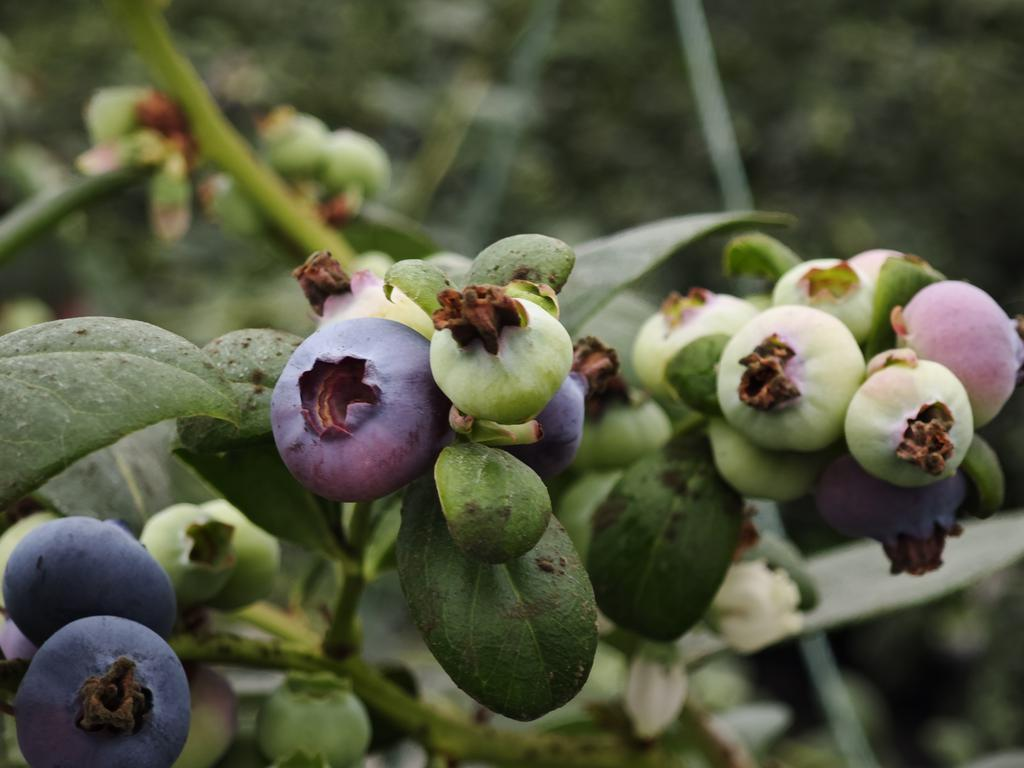RipeBlueBerry: (2, 513, 177, 649)
Semi-RipeBlueBerry: (265, 313, 440, 505), (895, 275, 1023, 425)
UnripeBlueBerry: (712, 304, 867, 452)
